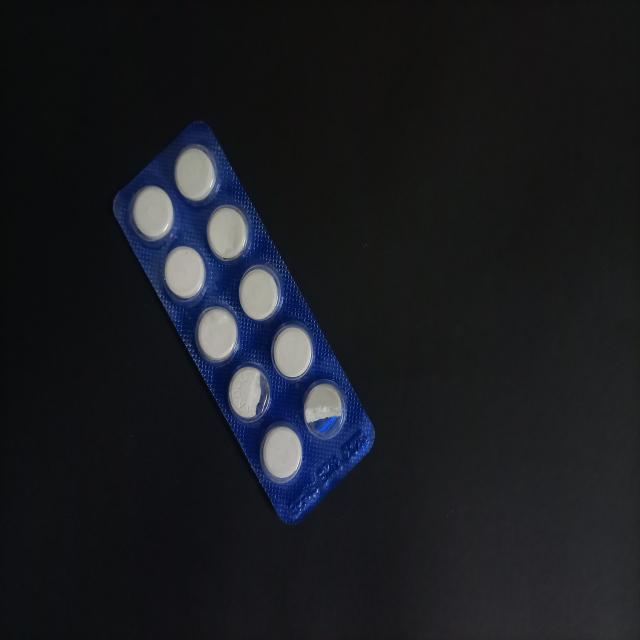defect: (224, 360, 273, 426), (302, 377, 348, 443)
